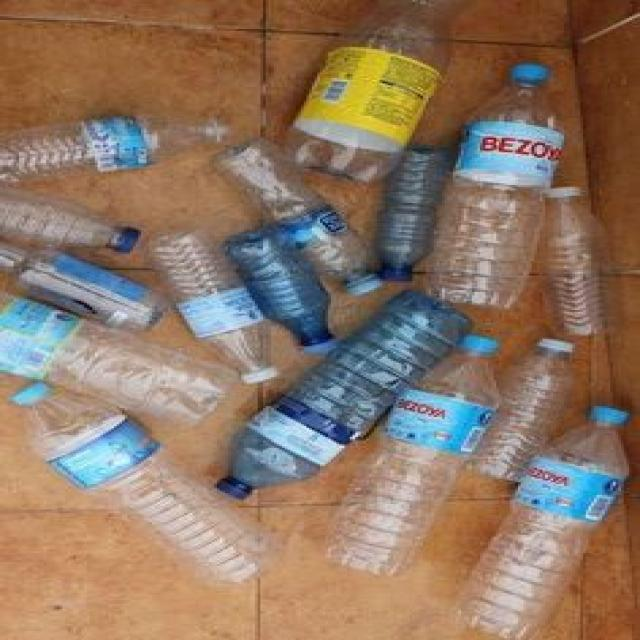plastic_bottle: (9, 378, 320, 604), (317, 323, 520, 579), (443, 389, 637, 638), (420, 47, 583, 320), (125, 219, 287, 397)
